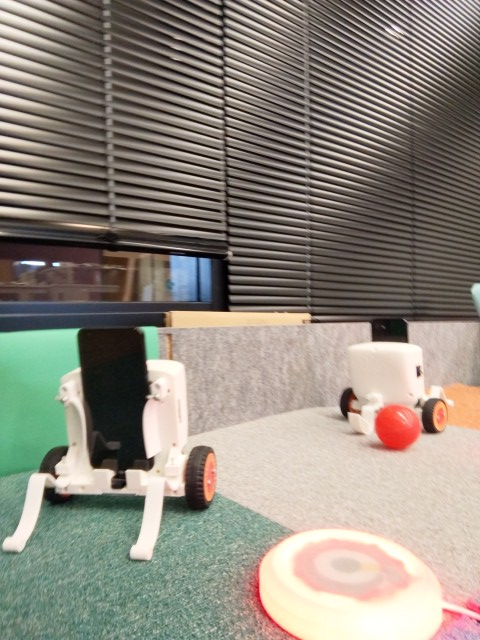br: (335, 316, 460, 443)
f: (1, 324, 218, 564)
r: (253, 523, 444, 640)
